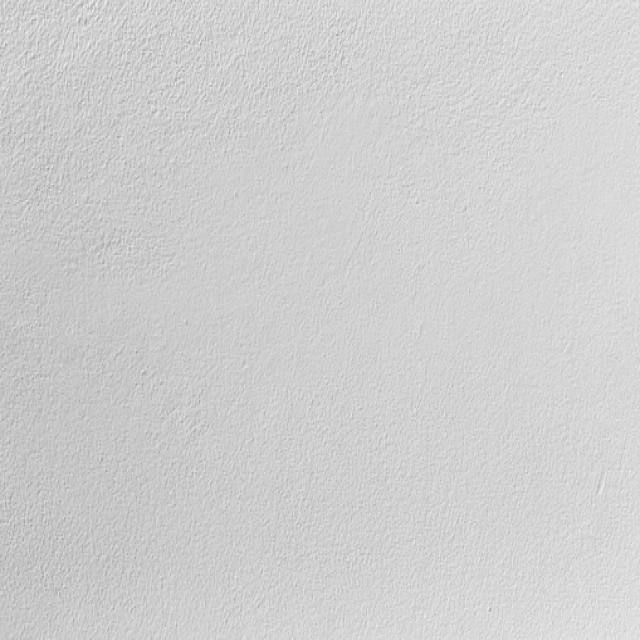rough and patchy surface: (2, 6, 636, 627)
